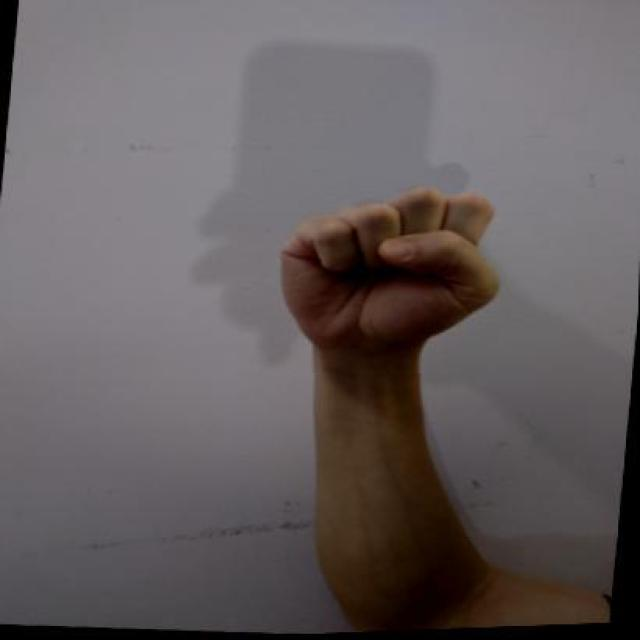S: (268, 176, 518, 374)
